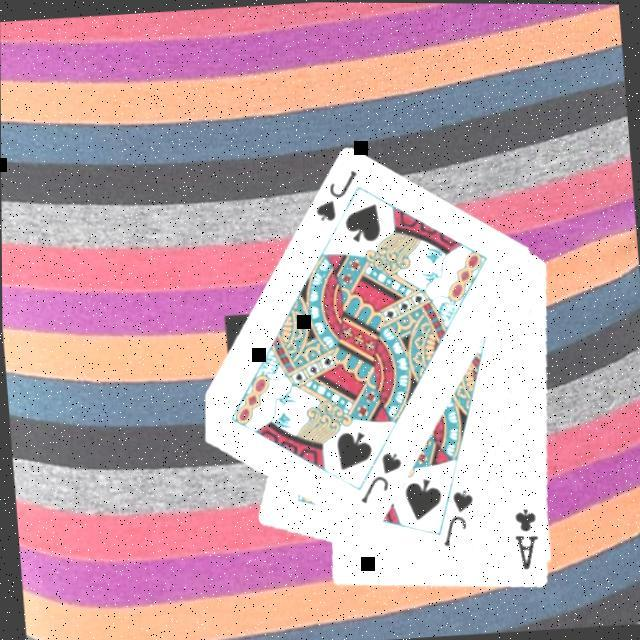AC: (510, 506, 545, 574)
JS: (310, 167, 366, 228), (355, 449, 409, 509), (436, 486, 481, 551)
